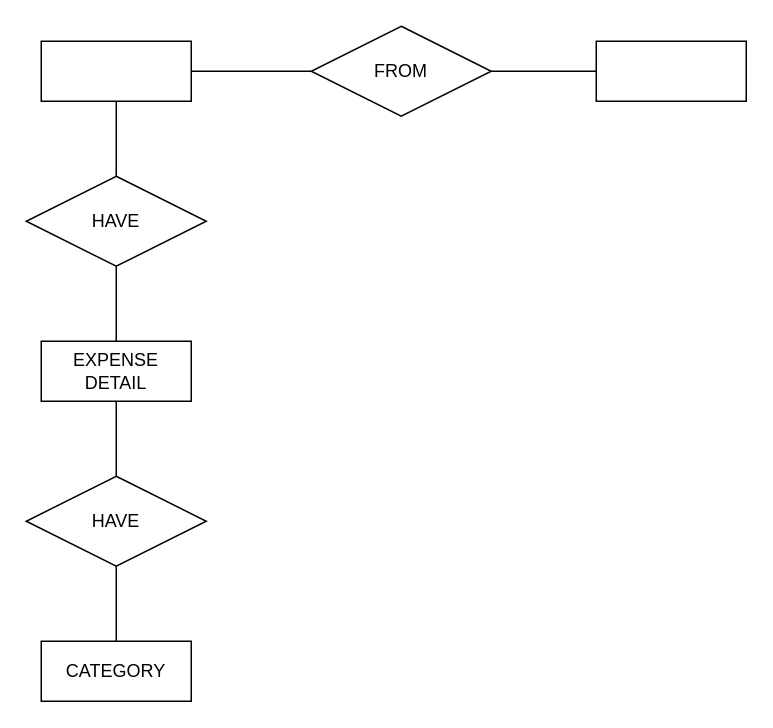
The diagram is 773 pixels wide and 728 high, and some of its shapes have lost their labels. The shapes that lost their labels are listed below. From the top down, each one's centre as x and y in pixels, then its label:
the point at 115,70: EXPENSE TRANSACTION
the point at 670,70: STORE
